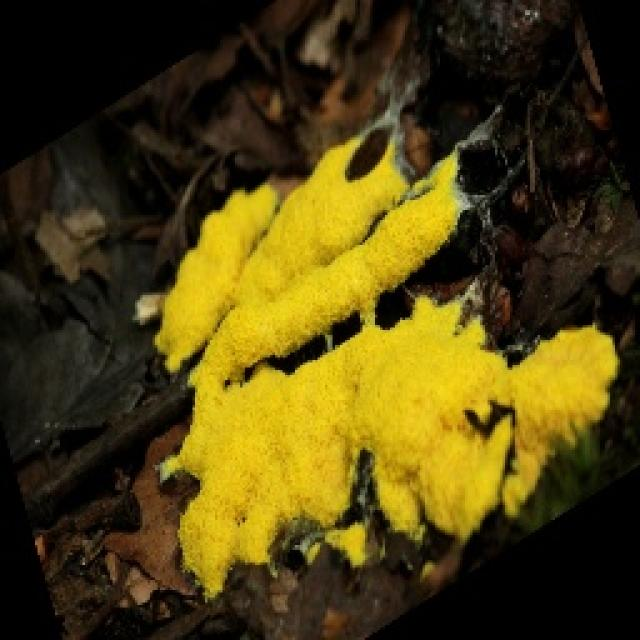Dog_vomit_slime_mold: (133, 110, 619, 574)
